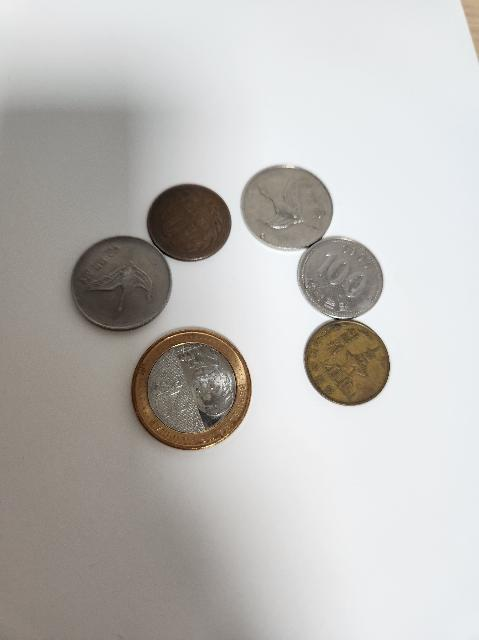coin: (133, 328, 253, 450), (72, 233, 172, 335), (243, 162, 333, 250), (305, 318, 393, 404), (300, 232, 384, 320), (149, 184, 231, 262)
